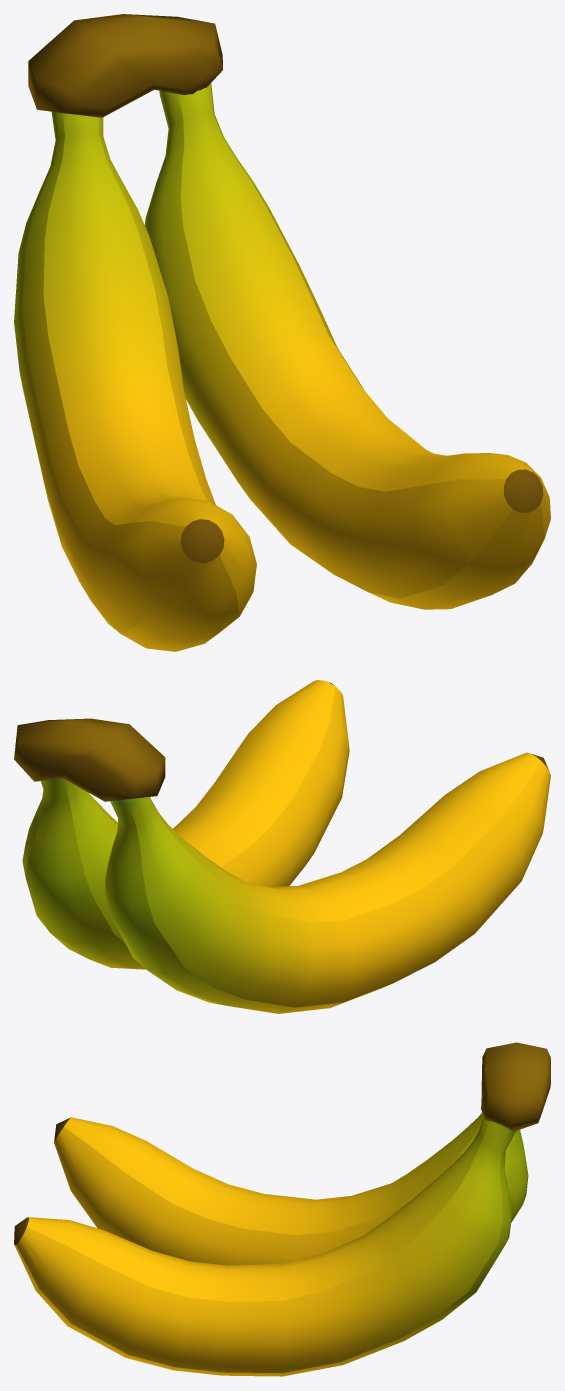
Rendered from Two_bananas.fbx.
3 renders of one model, top to bottom at view 1: azimuth 30°, elevation 25°; view 2: azimuth 150°, elevation 25°; view 3: azimuth 270°, elevation 25°, orthographic. The views are drawn at different scales.
Visible parts, largest first — view 1: Two_bananas; view 2: Two_bananas; view 3: Two_bananas.
Part boxes in pixels (x1,y1,x2,y2): Two_bananas: (14,14,550,651); Two_bananas: (14,680,550,1013); Two_bananas: (14,1042,550,1376).
Bounding box in the file's own units: 118 × 121 × 196.
